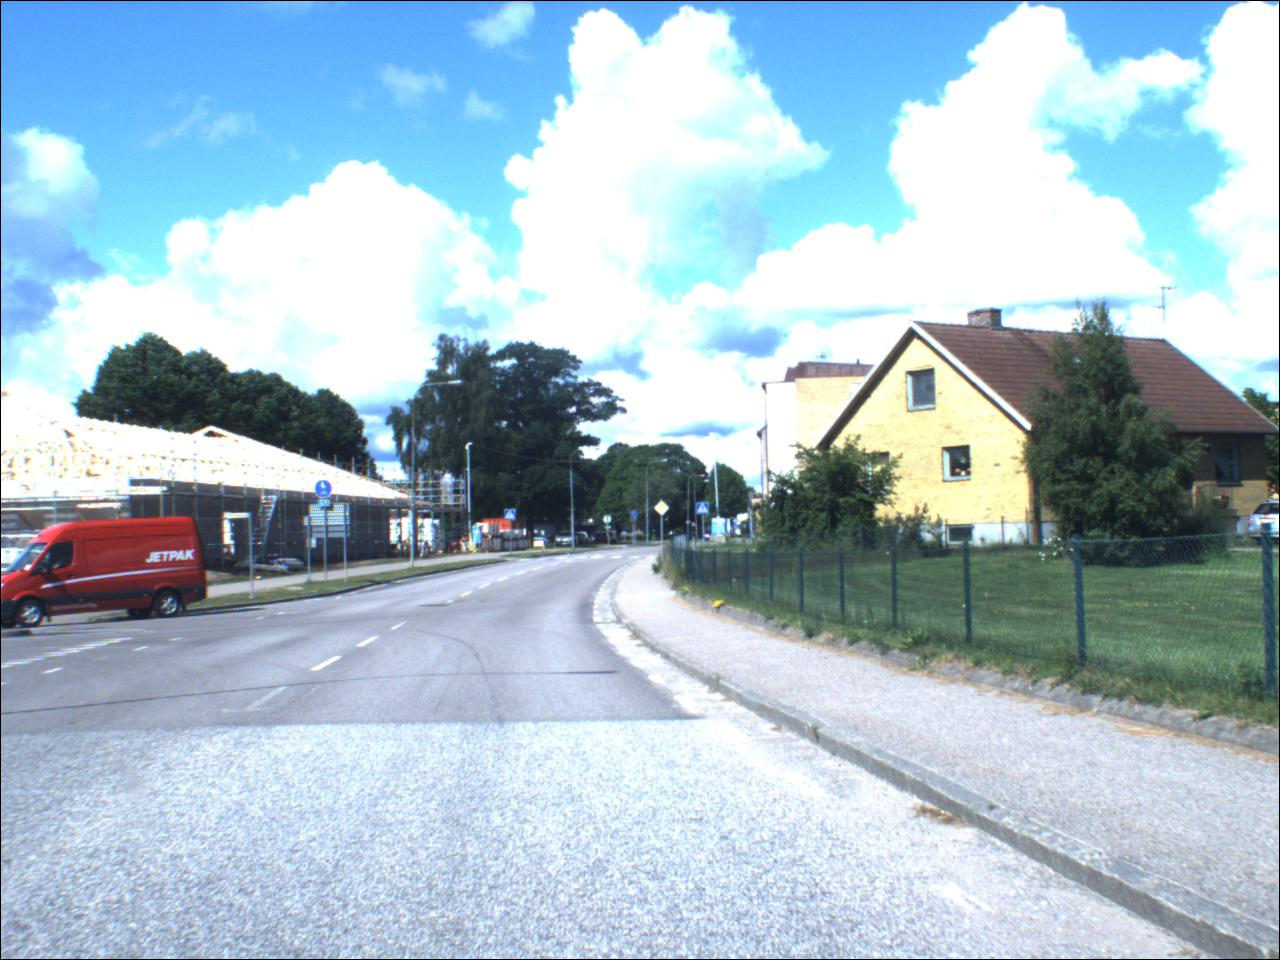PEDESTRIAN_CROSSING: (697, 503, 712, 517), (506, 511, 519, 523)
PRIORITY_ROAD: (655, 501, 673, 519)
